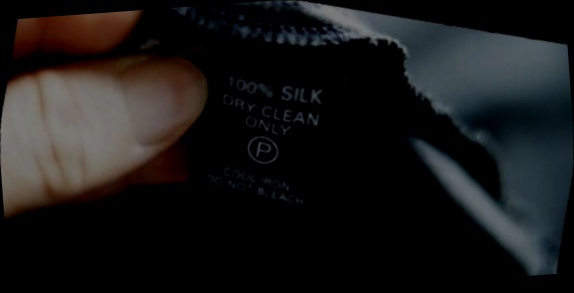dry_clean_any_solvent_except_trichloroethylene: (239, 125, 289, 173)
